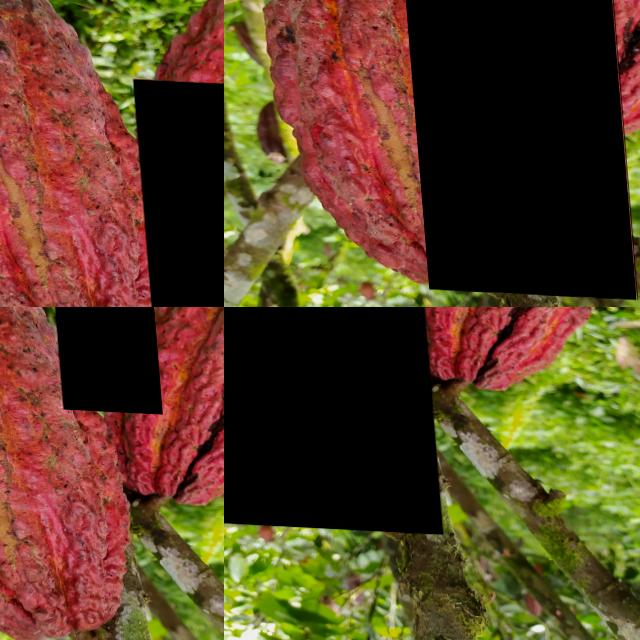Monilia: (48, 307, 158, 410)
Sana: (397, 0, 629, 295), (224, 307, 434, 530), (386, 307, 640, 395), (129, 75, 224, 307)
